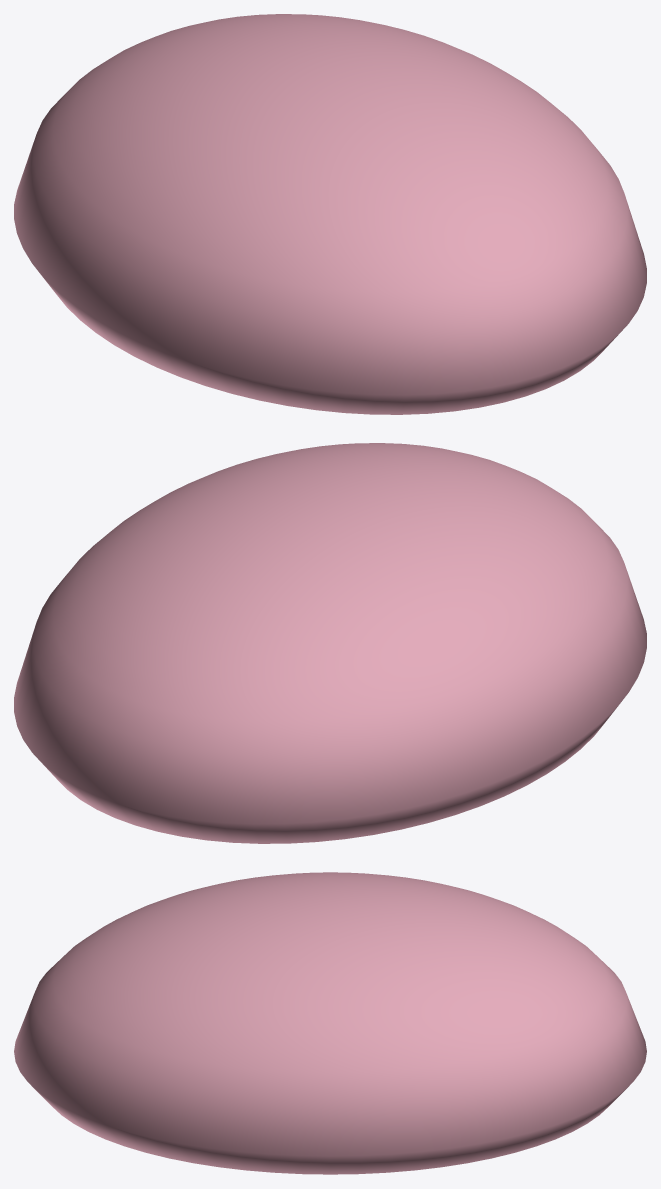
Rendered from stone-rose-quartz.glb.
The picture shows the model from 3 angles, top to bottom: view 1: azimuth 30°, elevation 25°; view 2: azimuth 150°, elevation 25°; view 3: azimuth 270°, elevation 25°; orthographic projection. The views are drawn at different scales.
Parts seen in each view (by area): view 1: Sculpture; view 2: Sculpture; view 3: Sculpture.
Boxes of the visible parts, x1,y1,x2,y2 form: Sculpture: (14, 14, 646, 414); Sculpture: (14, 443, 646, 843); Sculpture: (14, 872, 646, 1174).
Bounding box in the file's own units: 2 × 0.77 × 2.56.
